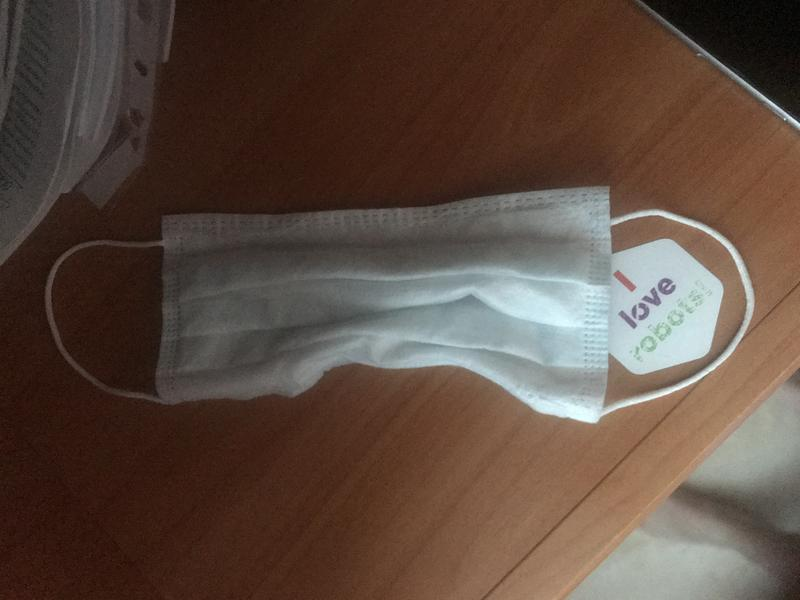medical_mask: (41, 194, 755, 425)
